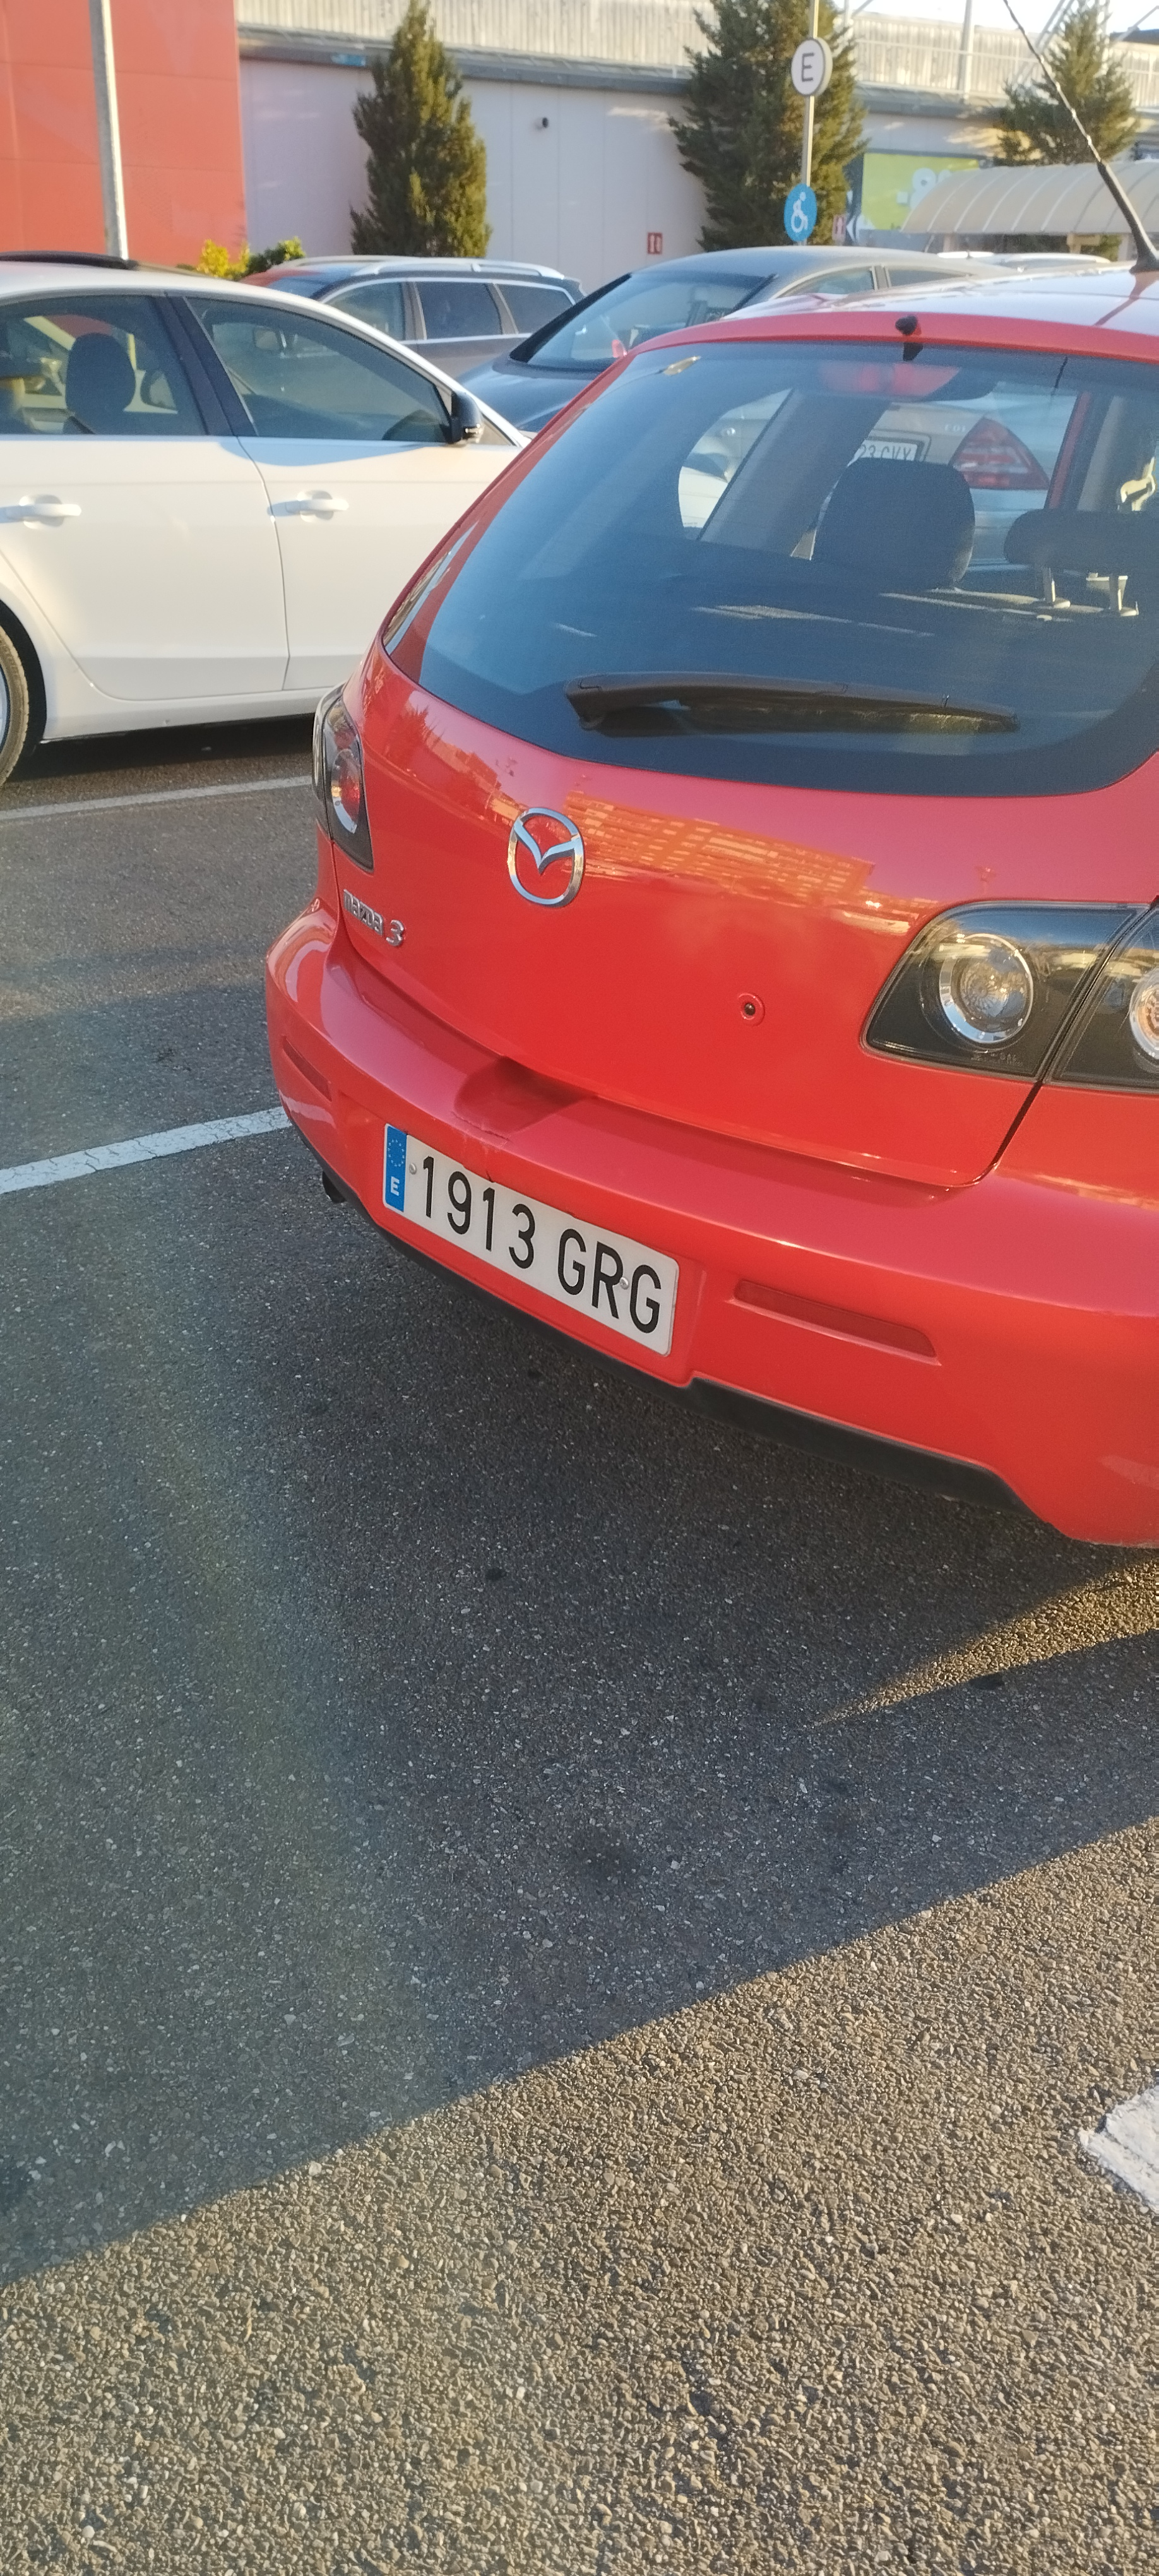Car: (287, 267, 1158, 1556)
Plate: (396, 1126, 727, 1205)
